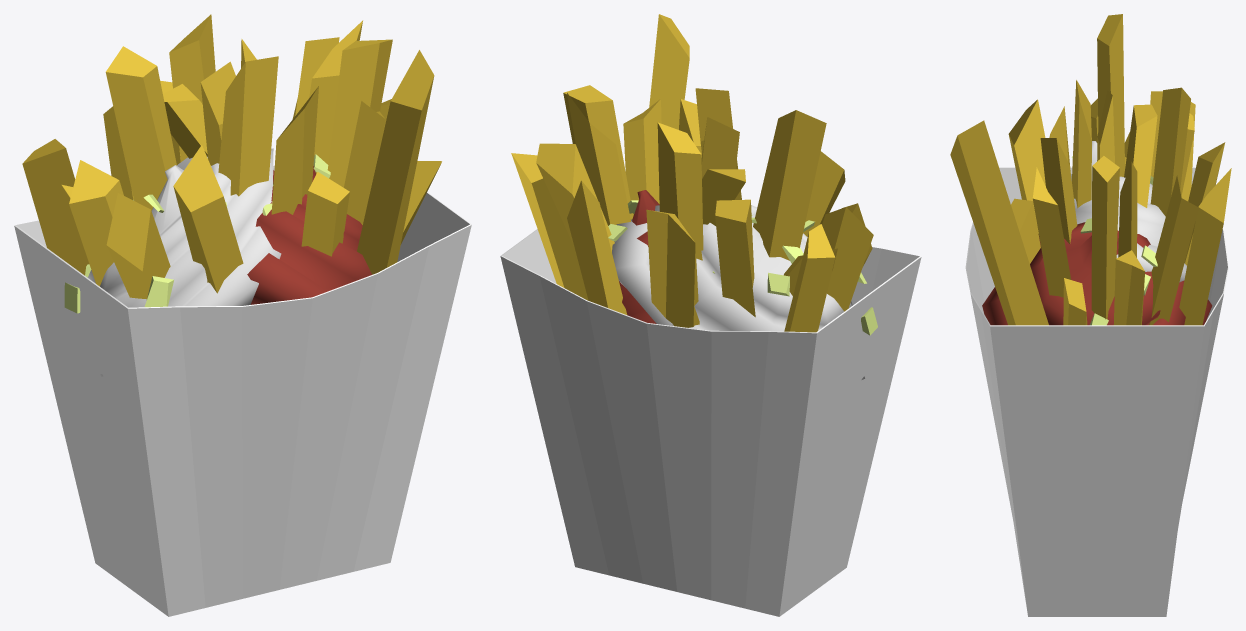
File: Fries.fbx
3 renders of one model, left to right at view 1: azimuth 30°, elevation 25°; view 2: azimuth 150°, elevation 25°; view 3: azimuth 270°, elevation 25°, orthographic. The views are drawn at different scales.
Parts seen in each view (by area): view 1: Container, Fries, Mayo, Ketchup, Onion; view 2: Container, Fries, Mayo, Onion, Ketchup; view 3: Container, Fries, Ketchup, Mayo, Onion.
Boxes of the visible parts, bbox=[...] form: Container: bbox=[14, 166, 471, 616]; Fries: bbox=[22, 14, 441, 299]; Mayo: bbox=[87, 148, 315, 376]; Ketchup: bbox=[247, 166, 371, 304]; Onion: bbox=[64, 154, 330, 313]; Container: bbox=[500, 229, 921, 616]; Fries: bbox=[511, 14, 873, 332]; Mayo: bbox=[612, 205, 864, 379]; Onion: bbox=[608, 200, 877, 335]; Ketchup: bbox=[619, 190, 659, 323]; Container: bbox=[965, 167, 1228, 616]; Fries: bbox=[950, 14, 1231, 325]; Ketchup: bbox=[982, 222, 1212, 325]; Mayo: bbox=[1071, 141, 1186, 282]; Onion: bbox=[1072, 156, 1157, 325].
Bounding box in the file's own units: 22.39 × 30.29 × 15.35.
